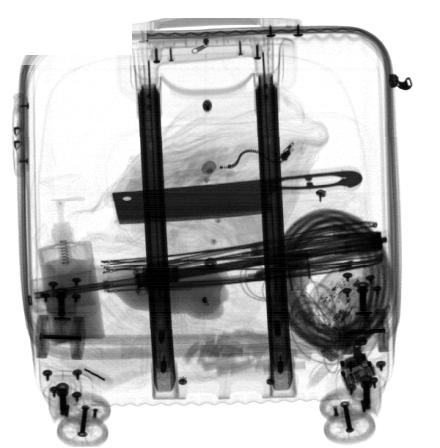Knife: (112, 169, 362, 225)
